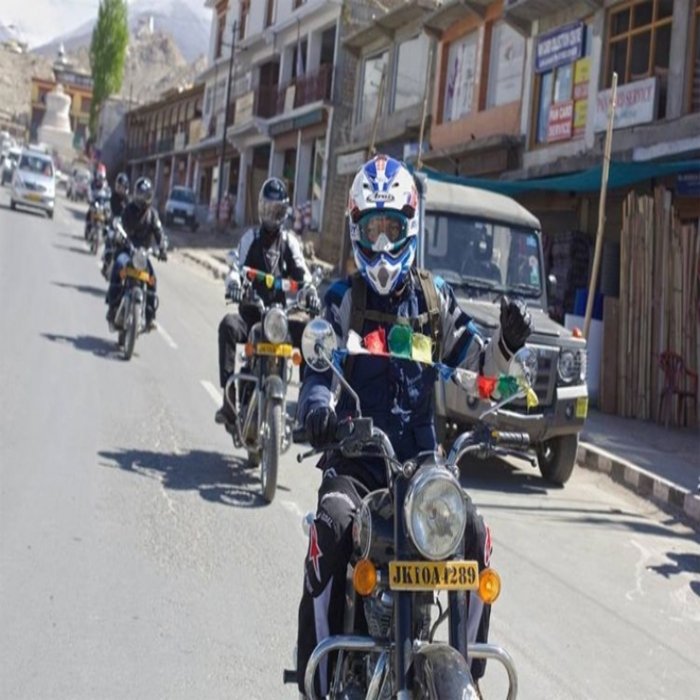h: (345, 152, 420, 302), (257, 178, 292, 236), (131, 174, 155, 213)
n: (388, 559, 478, 591)
